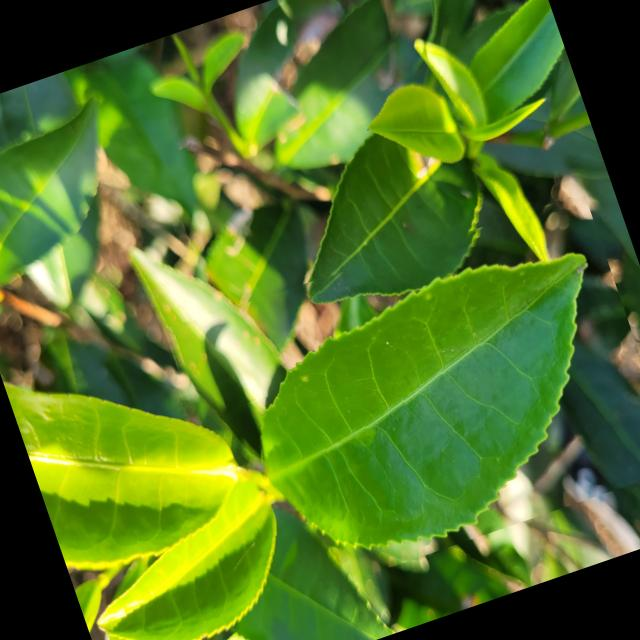Category B(2-4 days): (163, 183, 640, 610)
